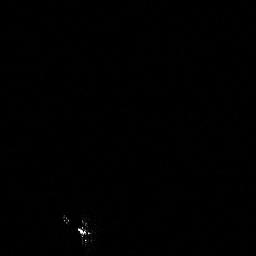ship: (61, 211, 99, 250)
